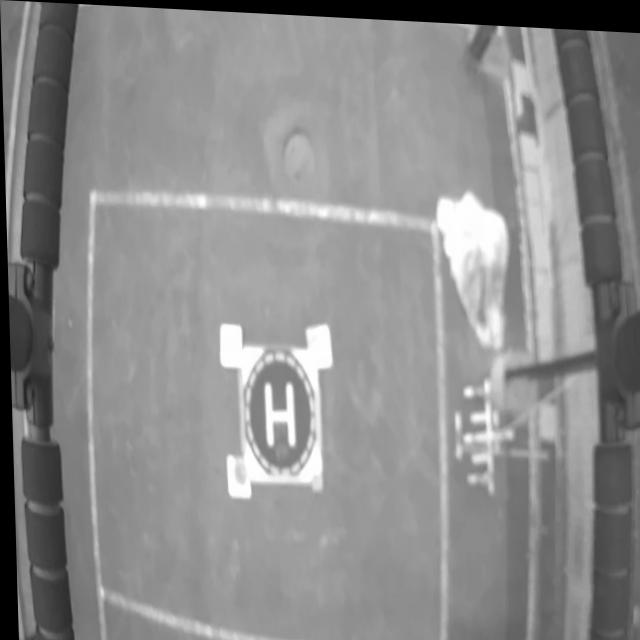Helipad: (261, 377, 294, 444)
